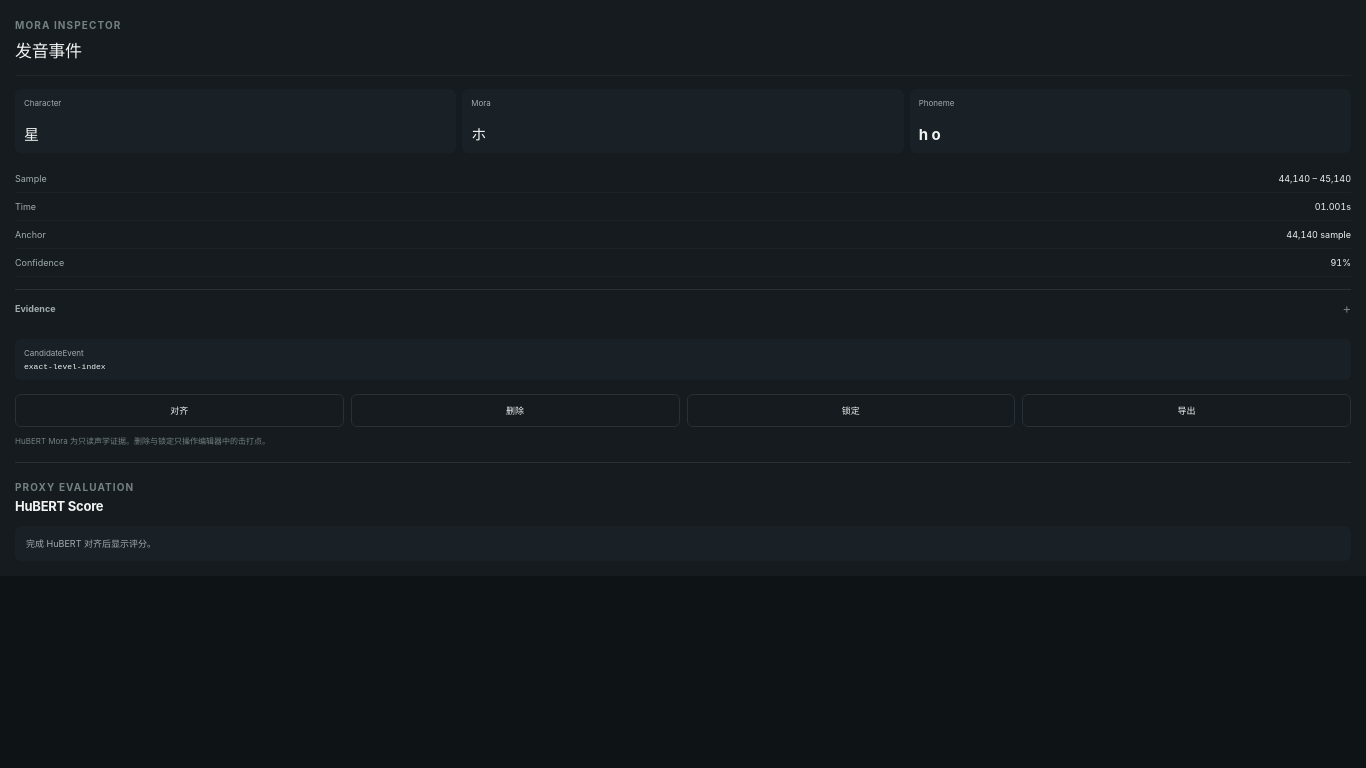
MoraInspector › uses exact alignment identity or level/index and keeps Evidence collapsed by default
The width and height of the screenshot is (1366, 768).
Check: the text "星" is shown, box [24,125,39,144]
Check: the text "ホ" is shown, box [471,125,486,144]
Click the heading "Evidence" at (35, 308), box [15,302,56,314]
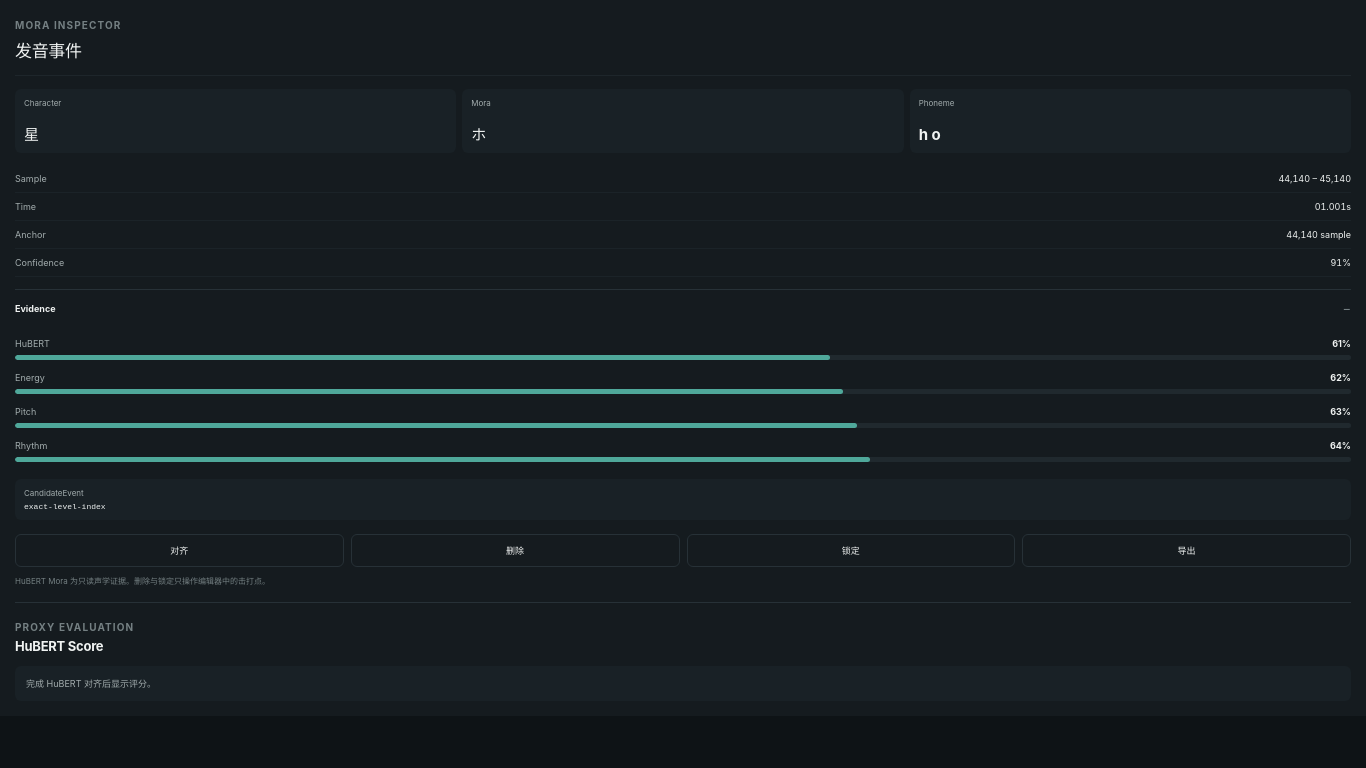
Check: the text "61%" is shown, box [1332,338,1351,349]
Check: the text "62%" is shown, box [1330,372,1351,383]
Check: the text "63%" is shown, box [1330,406,1351,417]
